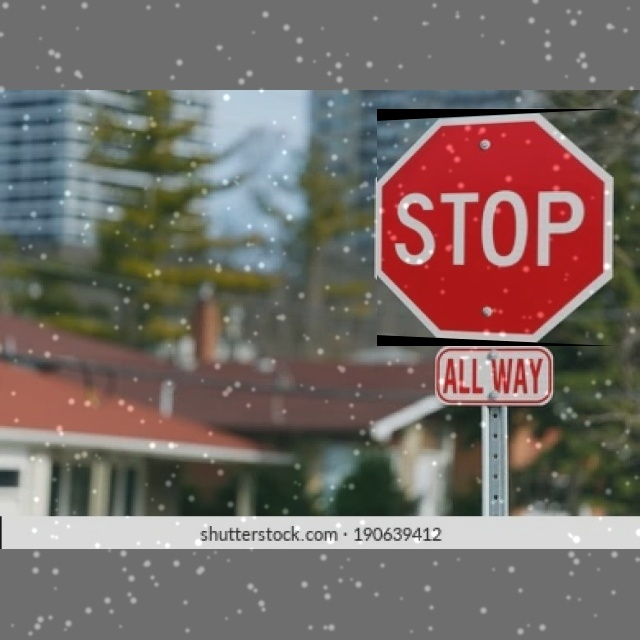Stop: (377, 109, 614, 346)
